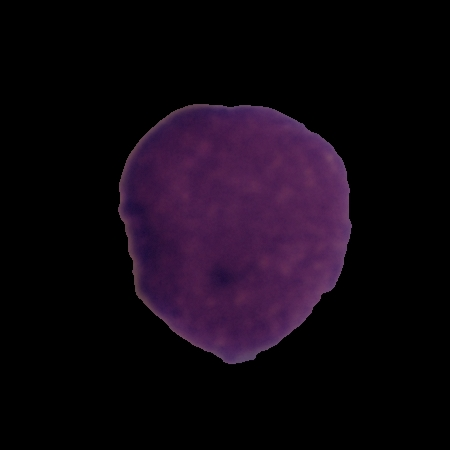HEM: (114, 99, 356, 367)
